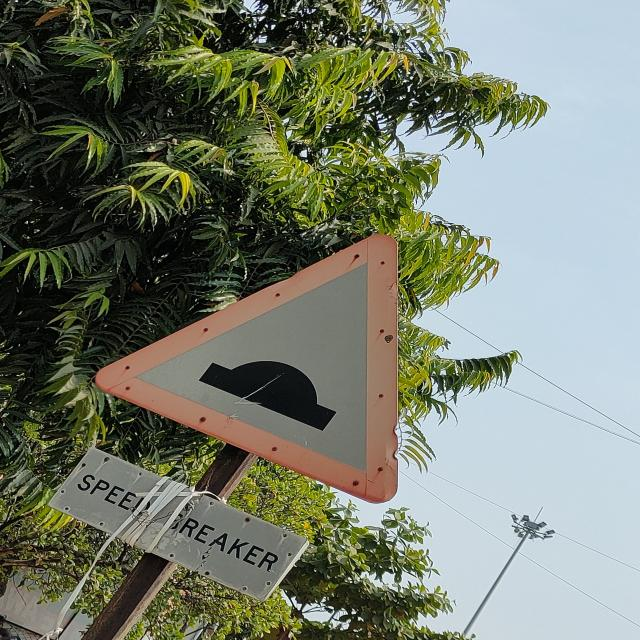HUMP_OR_ROUGH_ROAD: (97, 234, 400, 503)
